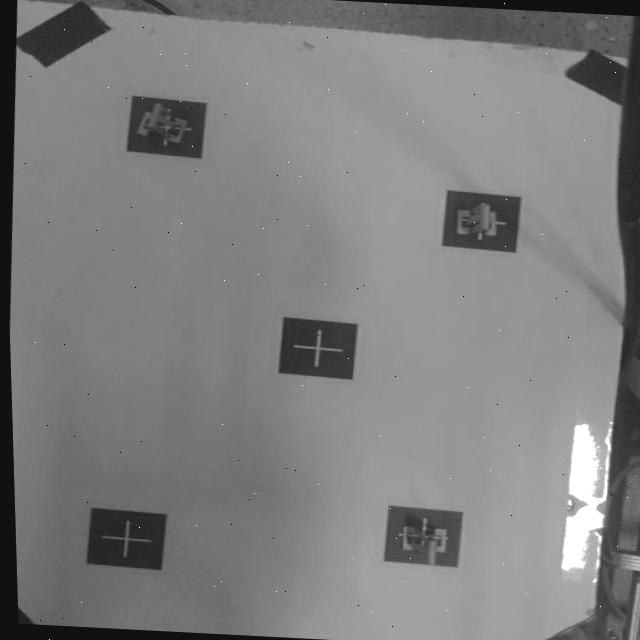pick1: (382, 508, 460, 570)
pick2: (442, 185, 521, 252)
pick5: (126, 92, 206, 154)
